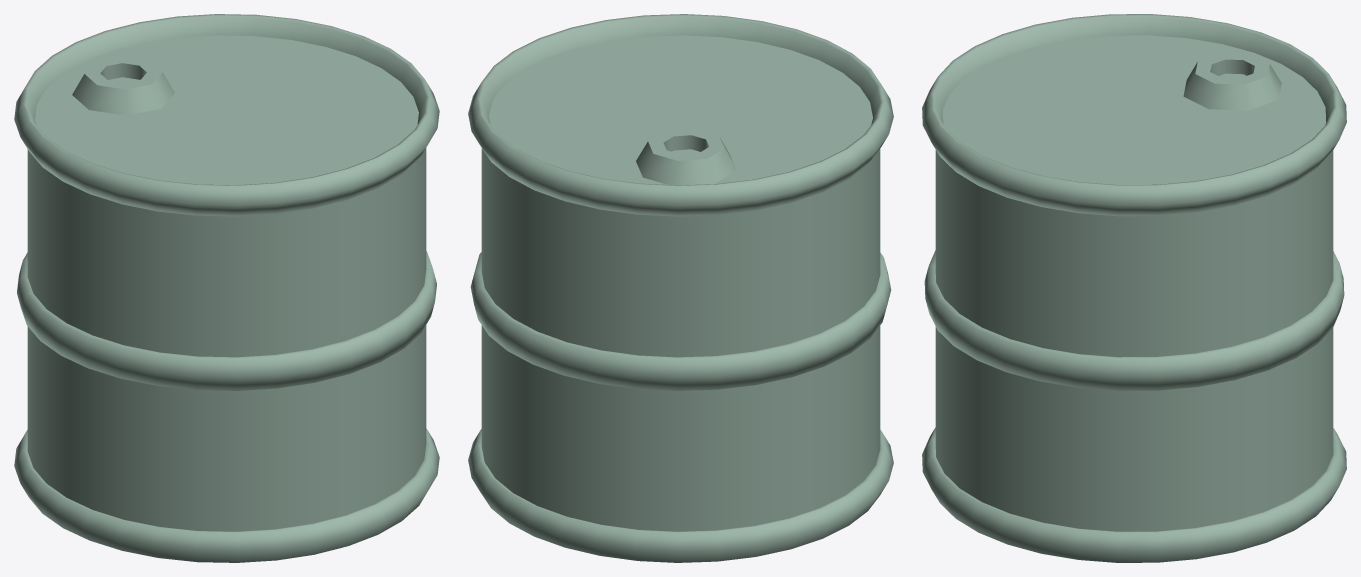
File: barrel.fbx
The picture shows the model from 3 angles, left to right: view 1: azimuth 30°, elevation 25°; view 2: azimuth 150°, elevation 25°; view 3: azimuth 270°, elevation 25°; orthographic projection.
Parts seen in each view (by area): view 1: Cylinder.001; view 2: Cylinder.001; view 3: Cylinder.001.
Boxes of the visible parts, bbox=[...] form: Cylinder.001: bbox=[14, 14, 439, 562]; Cylinder.001: bbox=[468, 14, 893, 562]; Cylinder.001: bbox=[922, 14, 1346, 562].
Size of the model in its own units: 126 by 125 by 126.
